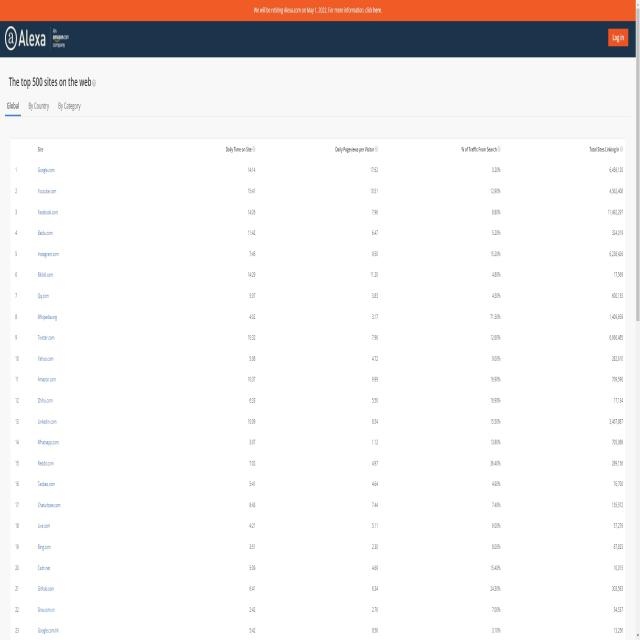tab-bar: (0, 94, 92, 121)
